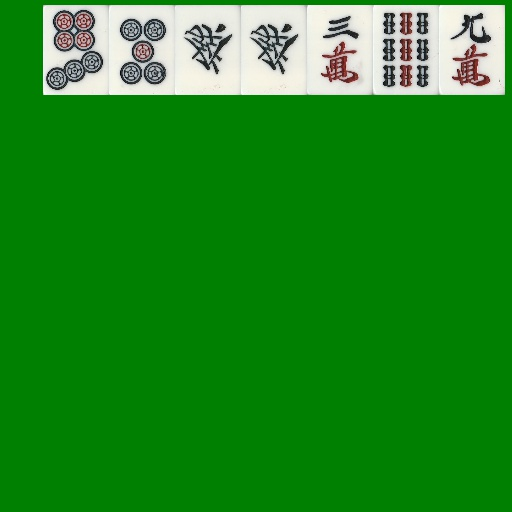3m: (307, 5, 373, 95)
5p: (109, 5, 175, 95)
7p: (43, 5, 109, 95)
9m: (439, 5, 505, 95)
9s: (373, 5, 439, 95)
hatsu: (175, 5, 241, 95), (241, 5, 307, 95)
